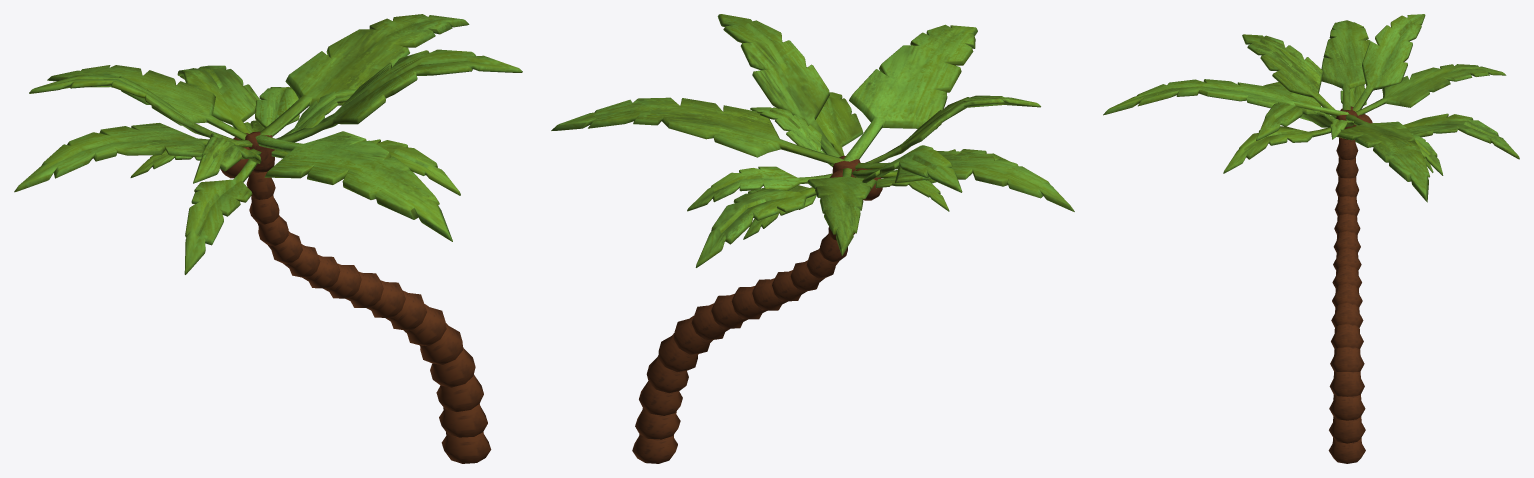
The model's file is Kelapa.fbx.
The picture shows the model from 3 angles, left to right: view 1: azimuth 30°, elevation 25°; view 2: azimuth 150°, elevation 25°; view 3: azimuth 270°, elevation 25°; orthographic projection. The views are drawn at different scales.
Visible parts, largest first — view 1: Kelapa_LOD0; view 2: Kelapa_LOD0; view 3: Kelapa_LOD0.
Part boxes in pixels (box(x1,y1,x2,y2)): Kelapa_LOD0: box(14, 14, 522, 463); Kelapa_LOD0: box(551, 14, 1074, 463); Kelapa_LOD0: box(1103, 14, 1519, 463).
Size of what is drawn, in the model's own units: 746 by 723 by 621.
1 material, 1 textured.
